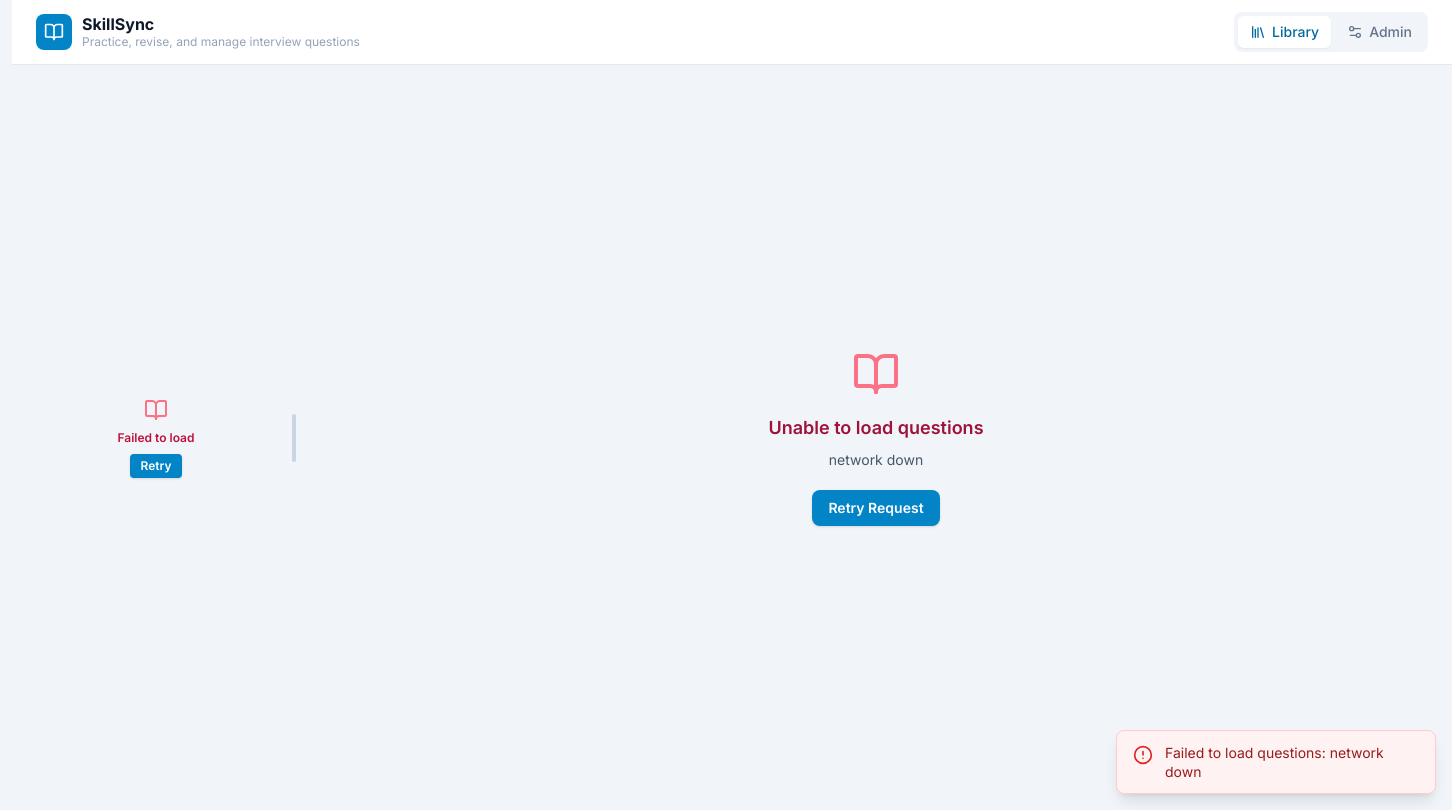
Test: App › shows error state and retry button when initial question load fails
Expected: the text "Failed to load questions: network down" is shown, [1165, 742, 1419, 781]
Expected: the text "Unable to load questions" is shown, [768, 414, 984, 442]
Click the button "Retry Request" at (876, 508), box [812, 490, 940, 526]
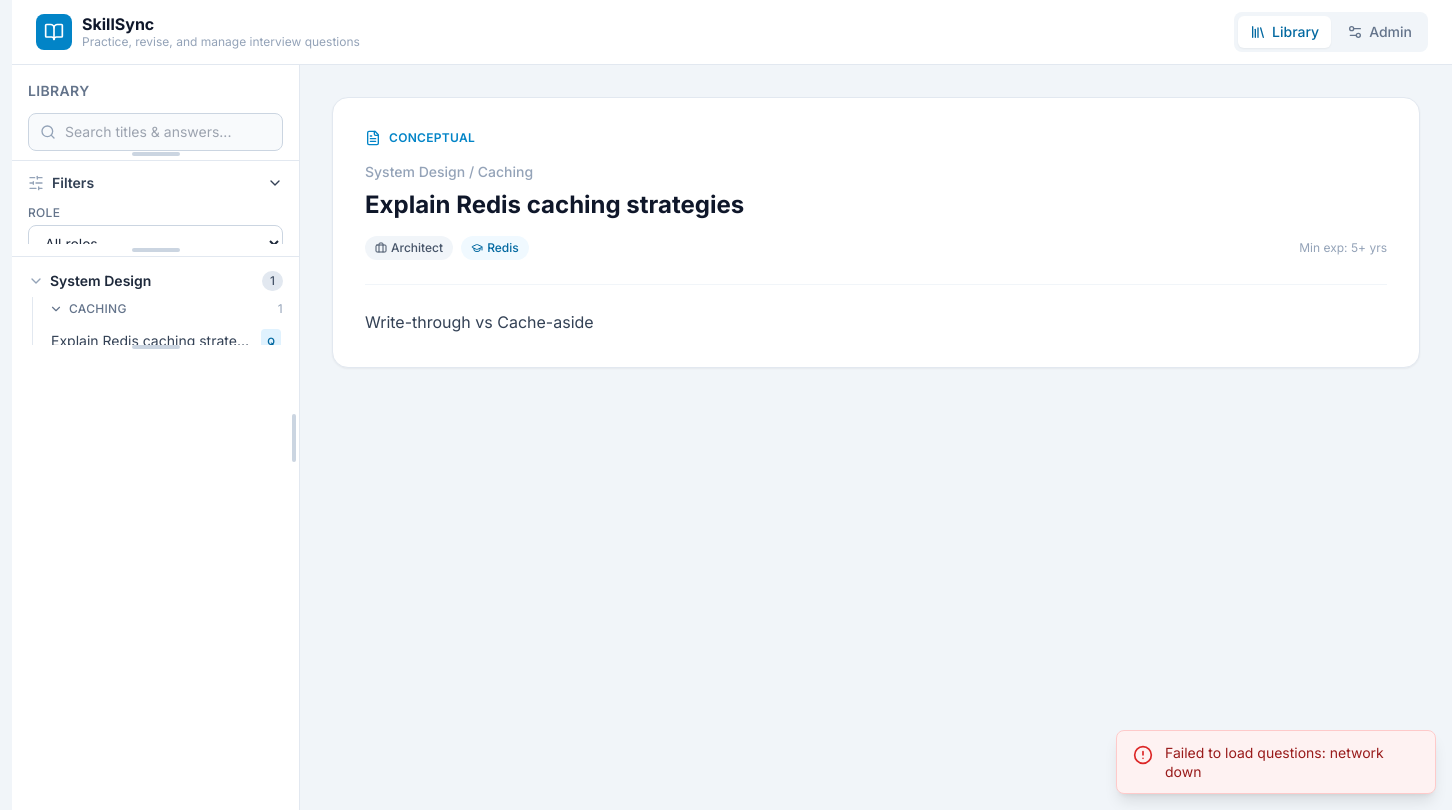
Now the text "Explain Redis caching strategies" is shown, box [51, 331, 253, 345]
